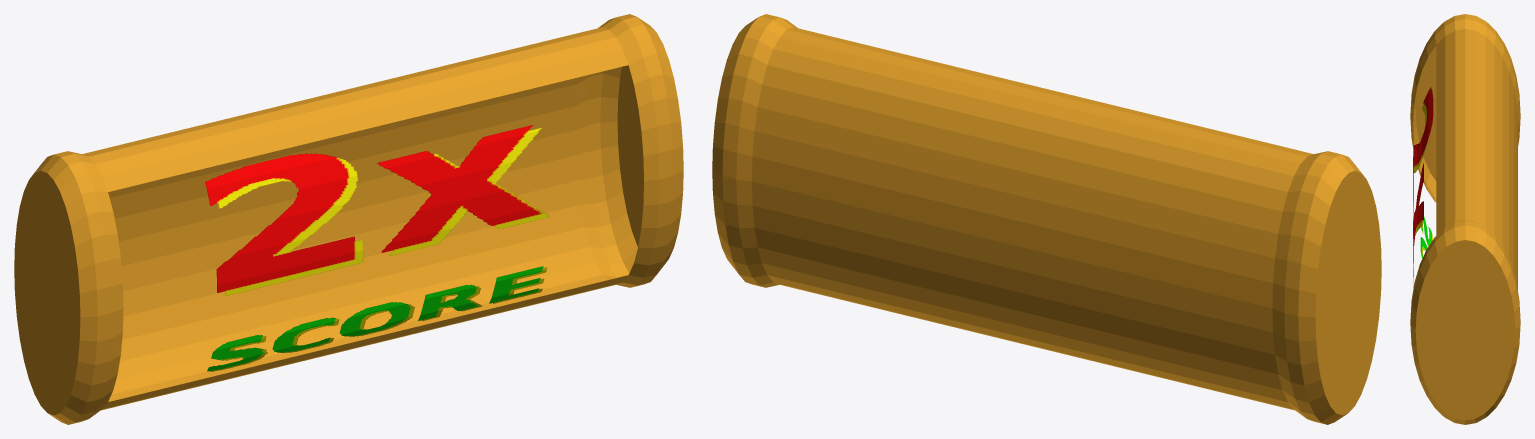
Rendered from BonusCylinder.dae.
3 views of the same model, side by side, from view 1: azimuth 30°, elevation 25°; view 2: azimuth 150°, elevation 25°; view 3: azimuth 270°, elevation 25° (orthographic). The views are drawn at different scales.
Parts seen in each view (by area): view 1: Cylinder, Cylinder.001; view 2: Cylinder; view 3: Cylinder, Cylinder.001.
Boxes of the visible parts, <box> form: Cylinder: <box>14,14,683,424</box>; Cylinder.001: <box>205,125,549,371</box>; Cylinder: <box>712,14,1381,424</box>; Cylinder: <box>1410,14,1520,424</box>; Cylinder.001: <box>1413,87,1433,287</box>.
Size of the model in its own units: 1 by 0.21 by 0.42.
